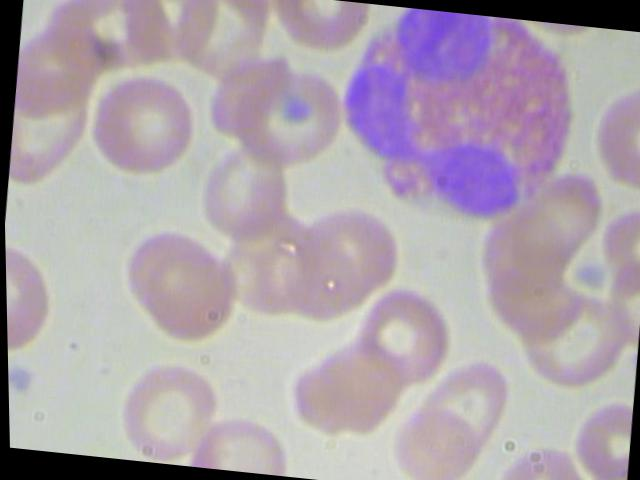Platelets: (6, 357, 43, 400), (567, 258, 609, 292)
Red Blood Cells: (103, 222, 232, 330), (231, 56, 352, 170), (81, 65, 199, 181), (110, 350, 219, 466), (409, 354, 519, 460), (352, 278, 454, 387), (140, 246, 241, 350), (7, 84, 93, 198), (14, 7, 109, 109), (372, 398, 484, 479)
White Blood Cells: (317, 2, 596, 236)
